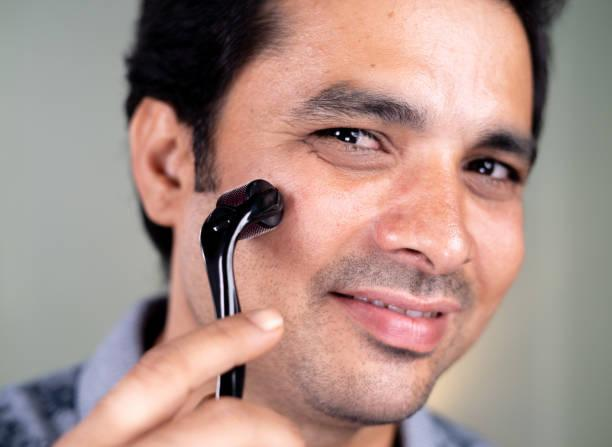Dry-Skin: (312, 296, 458, 389), (253, 3, 319, 155), (410, 51, 509, 131), (378, 96, 472, 164), (340, 0, 397, 90), (493, 215, 541, 301), (305, 205, 404, 239)
